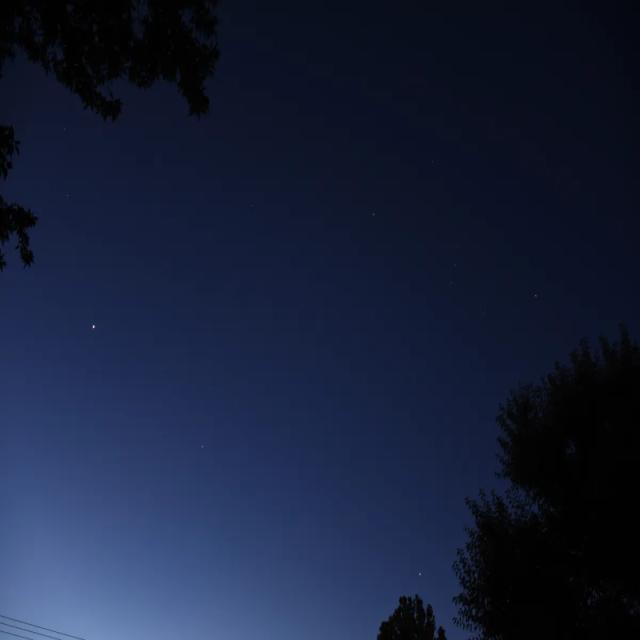moon: (90, 321, 96, 332)
